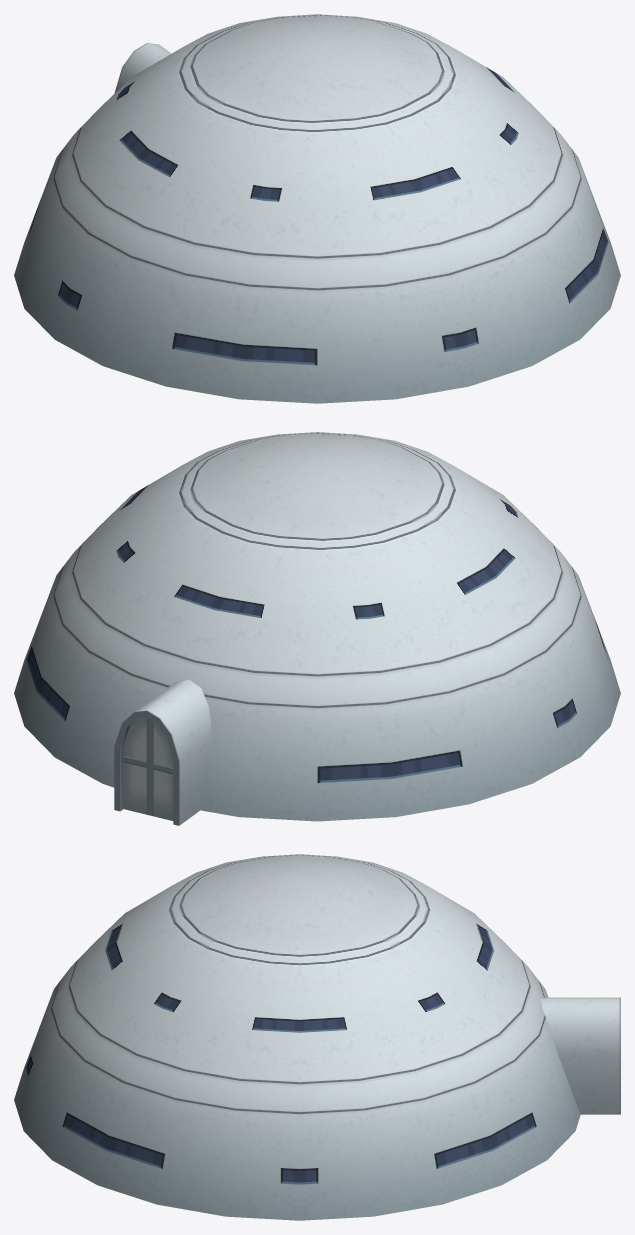
File: wudaohui_jianzhu3_02.FBX
The picture shows the model from 3 angles, top to bottom: view 1: azimuth 30°, elevation 25°; view 2: azimuth 150°, elevation 25°; view 3: azimuth 270°, elevation 25°; orthographic projection. The views are drawn at different scales.
Visible parts, largest first — view 1: wudaohui_jianzhu3_02; view 2: wudaohui_jianzhu3_02; view 3: wudaohui_jianzhu3_02.
Part boxes in pixels (box(x1,y1,x2,y2)): wudaohui_jianzhu3_02: box(14, 14, 620, 403); wudaohui_jianzhu3_02: box(14, 432, 620, 825); wudaohui_jianzhu3_02: box(14, 854, 620, 1220).
Bounding box in the file's own units: 1526 × 642 × 1621.
